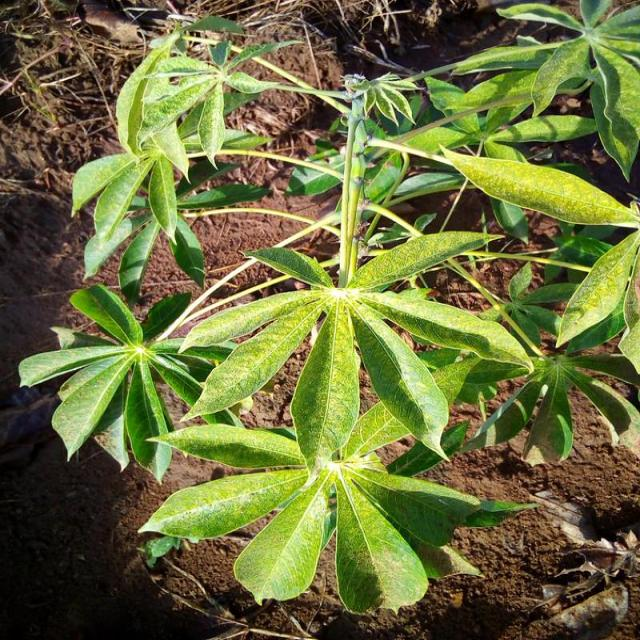cassava leaf: (18, 6, 638, 619), (438, 142, 638, 229)
